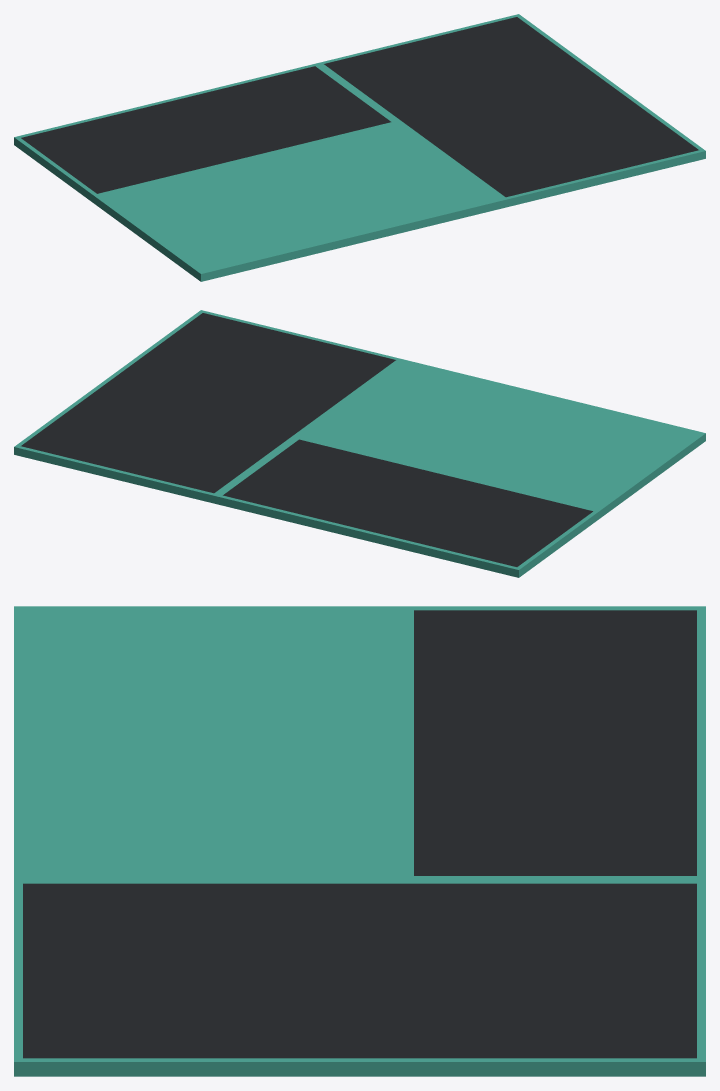
File: floor lp.fbx
The picture shows the model from 3 angles, top to bottom: view 1: azimuth 30°, elevation 25°; view 2: azimuth 150°, elevation 25°; view 3: azimuth 270°, elevation 25°; orthographic projection. The views are drawn at different scales.
Parts seen in each view (by area): view 1: Lab floor; view 2: Lab floor; view 3: Lab floor.
Part boxes in pixels (box(x1,y1,x2,y2)): Lab floor: box(14, 14, 705, 281); Lab floor: box(14, 310, 705, 577); Lab floor: box(14, 606, 705, 1076).
Bounding box in the file's own units: 5938 × 88.2 × 3810.
